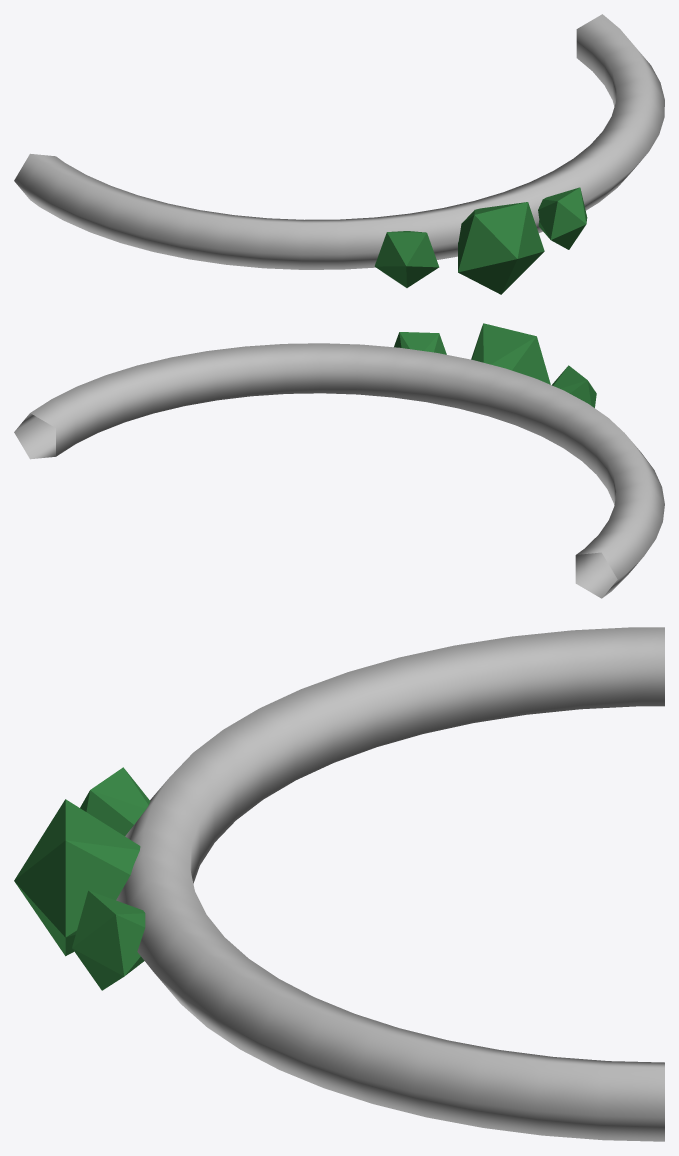
Rendered from SilverRing1.fbx.
The picture shows the model from 3 angles, top to bottom: view 1: azimuth 30°, elevation 25°; view 2: azimuth 150°, elevation 25°; view 3: azimuth 270°, elevation 25°; orthographic projection. The views are drawn at different scales.
Parts seen in each view (by area): view 1: Ring; view 2: Ring; view 3: Ring.
Part boxes in pixels (x1,y1,x2,y2): Ring: [14, 14, 664, 294]; Ring: [14, 323, 664, 598]; Ring: [14, 627, 664, 1141].
Bounding box in the file's own units: 3.9 × 0.5325 × 2.3.
